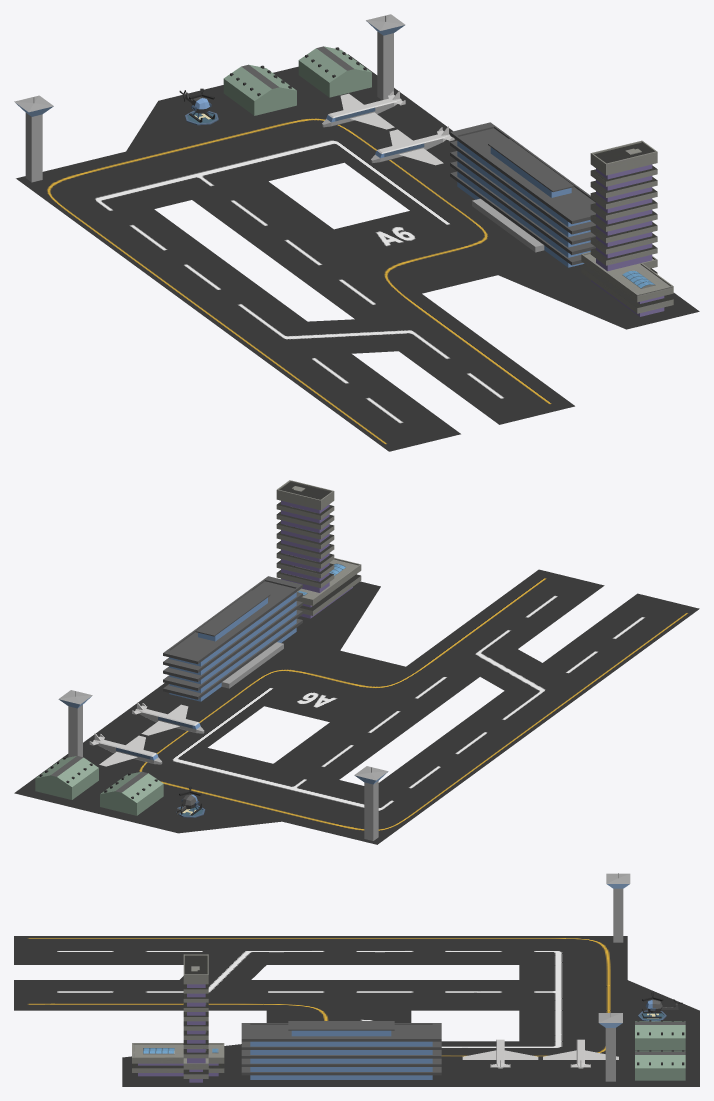
The model's file is airport.obj.
3 views of the same model, one above another, from view 1: azimuth 30°, elevation 25°; view 2: azimuth 150°, elevation 25°; view 3: azimuth 270°, elevation 25° (orthographic). The views are drawn at different scales.
Visible parts, largest first — view 1: airport_ground_Plane.196, airport_house1_airport_house1_Cube.001, airport_house2_airport_house3_Mesh.001, airport_angar1_airport_barak_Hangar_factory_Куб.001, airport_angar2_airport_barak_Hangar_factory_Куб.002, airport_tower1_airport_vishka1_Cube.003, airport_tower2_airport_vishka1_Cube.002, airport_airplane1_airport_airplane1_plane_01.001, airport_airplane2_airport_airplane1_plane_01.002, airport_helicopter_airport_helicopter_Mesh.001; view 2: airport_ground_Plane.196, airport_house1_airport_house1_Cube.001, airport_house2_airport_house3_Mesh.001, airport_angar2_airport_barak_Hangar_factory_Куб.002, airport_angar1_airport_barak_Hangar_factory_Куб.001, airport_tower1_airport_vishka1_Cube.003, airport_airplane1_airport_airplane1_plane_01.001, airport_airplane2_airport_airplane1_plane_01.002, airport_tower2_airport_vishka1_Cube.002, airport_helicopter_airport_helicopter_Mesh.001; view 3: airport_ground_Plane.196, airport_house1_airport_house1_Cube.001, airport_house2_airport_house3_Mesh.001, airport_angar1_airport_barak_Hangar_factory_Куб.001, airport_angar2_airport_barak_Hangar_factory_Куб.002, airport_tower1_airport_vishka1_Cube.003, airport_tower2_airport_vishka1_Cube.002, airport_airplane2_airport_airplane1_plane_01.002, airport_airplane1_airport_airplane1_plane_01.001, airport_helicopter_airport_helicopter_Mesh.001.
Boxes of the visible parts, x1=… form: airport_ground_Plane.196: x1=16, y1=54, x2=699, y2=451; airport_house1_airport_house1_Cube.001: x1=450, y1=122, x2=595, y2=267; airport_house2_airport_house3_Mesh.001: x1=581, y1=140, x2=673, y2=316; airport_angar1_airport_barak_Hangar_factory_Куб.001: x1=298, y1=46, x2=371, y2=97; airport_angar2_airport_barak_Hangar_factory_Куб.002: x1=223, y1=64, x2=296, y2=115; airport_tower1_airport_vishka1_Cube.003: x1=14, y1=95, x2=53, y2=182; airport_tower2_airport_vishka1_Cube.002: x1=366, y1=14, x2=405, y2=100; airport_airplane1_airport_airplane1_plane_01.001: x1=322, y1=90, x2=405, y2=129; airport_airplane2_airport_airplane1_plane_01.002: x1=370, y1=126, x2=454, y2=165; airport_helicopter_airport_helicopter_Mesh.001: x1=179, y1=88, x2=218, y2=125; airport_ground_Plane.196: x1=14, y1=569, x2=699, y2=844; airport_house1_airport_house1_Cube.001: x1=163, y1=576, x2=302, y2=701; airport_house2_airport_house3_Mesh.001: x1=276, y1=480, x2=361, y2=618; airport_angar2_airport_barak_Hangar_factory_Куб.002: x1=100, y1=771, x2=163, y2=815; airport_angar1_airport_barak_Hangar_factory_Куб.001: x1=35, y1=756, x2=98, y2=799; airport_tower1_airport_vishka1_Cube.003: x1=354, y1=766, x2=388, y2=840; airport_airplane1_airport_airplane1_plane_01.001: x1=89, y1=733, x2=162, y2=766; airport_airplane2_airport_airplane1_plane_01.002: x1=132, y1=702, x2=204, y2=735; airport_tower2_airport_vishka1_Cube.002: x1=58, y1=690, x2=92, y2=757; airport_helicopter_airport_helicopter_Mesh.001: x1=176, y1=786, x2=205, y2=817; airport_ground_Plane.196: x1=14, y1=936, x2=699, y2=1086; airport_house1_airport_house1_Cube.001: x1=241, y1=1021, x2=441, y2=1079; airport_house2_airport_house3_Mesh.001: x1=132, y1=954, x2=224, y2=1082; airport_angar1_airport_barak_Hangar_factory_Куб.001: x1=635, y1=1050, x2=685, y2=1080; airport_angar2_airport_barak_Hangar_factory_Куб.002: x1=635, y1=1020, x2=685, y2=1050; airport_tower1_airport_vishka1_Cube.003: x1=606, y1=873, x2=630, y2=942; airport_tower2_airport_vishka1_Cube.002: x1=598, y1=1012, x2=622, y2=1081; airport_airplane2_airport_airplane1_plane_01.002: x1=462, y1=1039, x2=538, y2=1068; airport_airplane1_airport_airplane1_plane_01.001: x1=543, y1=1039, x2=618, y2=1068; airport_helicopter_airport_helicopter_Mesh.001: x1=638, y1=992, x2=682, y2=1021.
Size of the model in its own units: 9.9 by 3.4 by 19.
4 materials, 4 textured.
